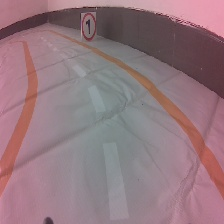limit: (79, 11, 97, 42)
